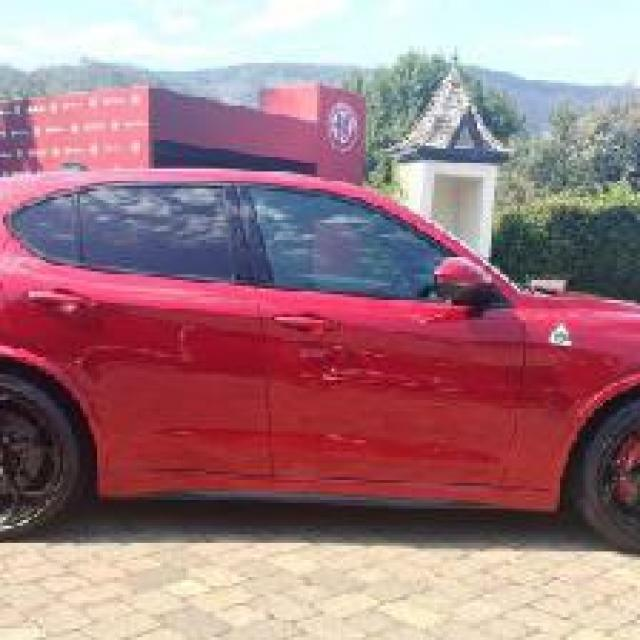damaged: (297, 342, 466, 454), (77, 321, 212, 388)
